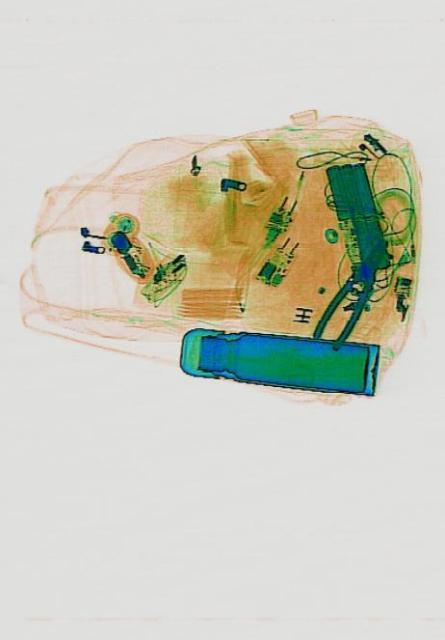Pliers: (310, 225, 396, 357)
